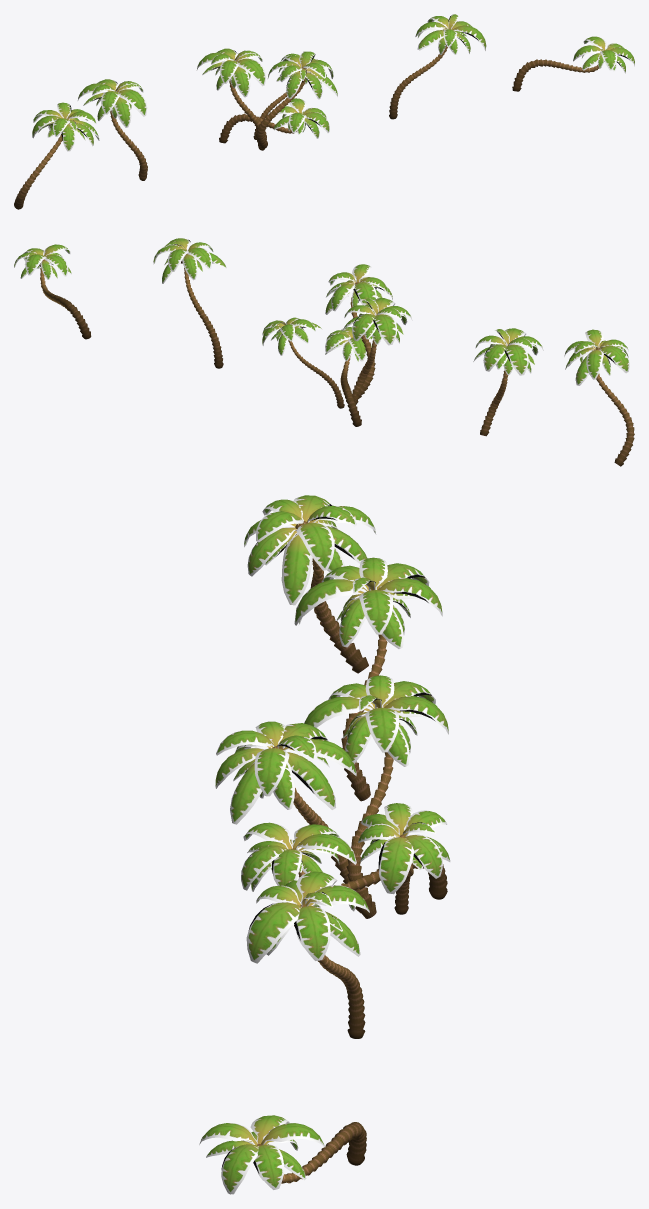
File: stylized_palm_tree_set.glb
The picture shows the model from 3 angles, top to bottom: view 1: azimuth 30°, elevation 25°; view 2: azimuth 150°, elevation 25°; view 3: azimuth 270°, elevation 25°; orthographic projection. The views are drawn at different scales.
Parts seen in each view (by area): view 1: PalmTreeSet_LP.027, PalmTreeSet_LP.028, PalmTreeSet_LP.024, PalmTreeSet_LP.020, PalmTreeSet_LP.026, PalmTreeSet_LP.029, PalmTreeSet_LP.025, PalmTreeSet_LP.011; view 2: PalmTreeSet_LP.028, PalmTreeSet_LP.027, PalmTreeSet_LP.020, PalmTreeSet_LP.026, PalmTreeSet_LP.024, PalmTreeSet_LP.029, PalmTreeSet_LP.011, PalmTreeSet_LP.025; view 3: PalmTreeSet_LP.028, PalmTreeSet_LP.024, PalmTreeSet_LP.020, PalmTreeSet_LP.026, PalmTreeSet_LP.027, PalmTreeSet_LP.029, PalmTreeSet_LP.025, PalmTreeSet_LP.011.
Boxes of the visible parts, box(x1,y1,x2,y2) form: PalmTreeSet_LP.027: box(77, 79, 147, 180); PalmTreeSet_LP.028: box(14, 102, 99, 209); PalmTreeSet_LP.024: box(256, 51, 337, 148); PalmTreeSet_LP.020: box(196, 48, 266, 150); PalmTreeSet_LP.026: box(389, 14, 486, 119); PalmTreeSet_LP.029: box(512, 36, 634, 91); PalmTreeSet_LP.025: box(219, 98, 329, 143); PalmTreeSet_LP.011: box(253, 51, 333, 139); PalmTreeSet_LP.028: box(564, 329, 634, 466); PalmTreeSet_LP.027: box(473, 328, 543, 436); PalmTreeSet_LP.020: box(342, 298, 412, 404); PalmTreeSet_LP.026: box(153, 238, 226, 368); PalmTreeSet_LP.024: box(325, 264, 392, 400); PalmTreeSet_LP.029: box(14, 244, 91, 339); PalmTreeSet_LP.011: box(262, 317, 344, 408); PalmTreeSet_LP.025: box(325, 327, 373, 426); PalmTreeSet_LP.028: box(244, 495, 376, 673); PalmTreeSet_LP.024: box(215, 721, 372, 913); PalmTreeSet_LP.020: box(304, 675, 448, 918); PalmTreeSet_LP.026: box(246, 871, 369, 1038); PalmTreeSet_LP.027: box(294, 557, 442, 801); PalmTreeSet_LP.029: box(199, 1115, 366, 1194); PalmTreeSet_LP.025: box(241, 822, 447, 899); PalmTreeSet_LP.011: box(358, 803, 450, 914).
Bounding box in the file's own units: 4738 × 794 × 872.
2 materials, 2 textured.
